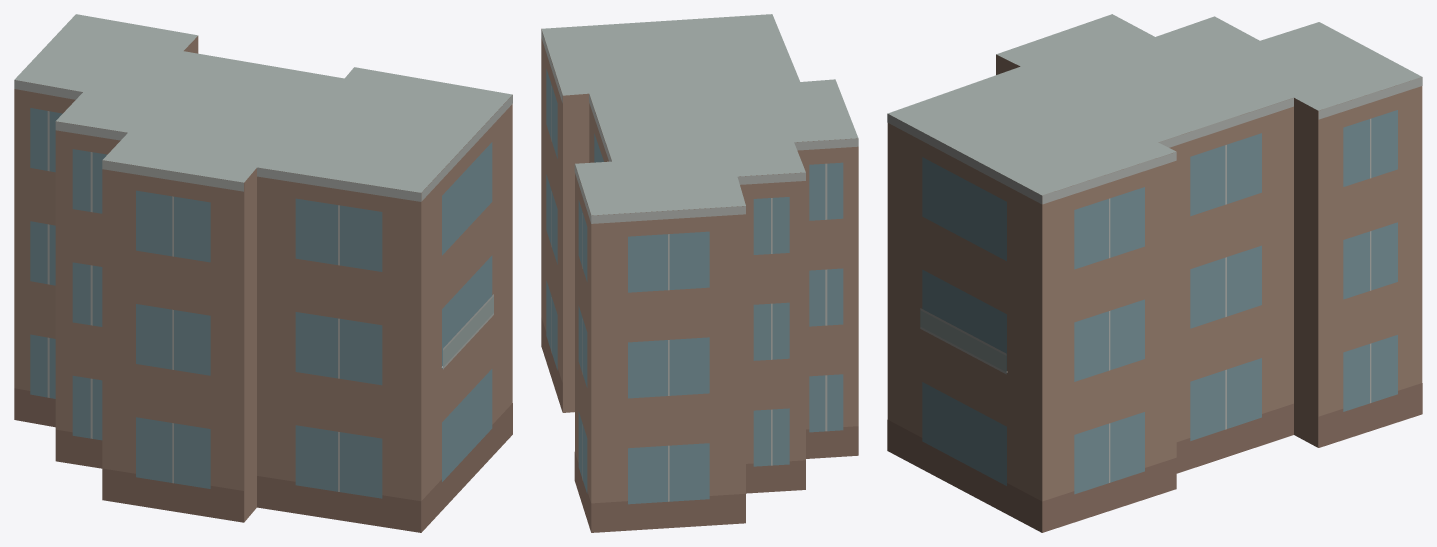
File: survey-upis-33014941.glb
3 renders of one model, left to right at view 1: azimuth 30°, elevation 25°; view 2: azimuth 150°, elevation 25°; view 3: azimuth 270°, elevation 25°, orthographic. The views are drawn at different scales.
Parts seen in each view (by area): view 1: survey-upis-33014941.tmp; view 2: survey-upis-33014941.tmp; view 3: survey-upis-33014941.tmp.
Boxes of the visible parts, <box> form: survey-upis-33014941.tmp: <box>14,14,512,532</box>; survey-upis-33014941.tmp: <box>541,14,858,532</box>; survey-upis-33014941.tmp: <box>887,14,1422,532</box>.
Bounding box in the file's own units: 10.57 × 9.15 × 13.16.
